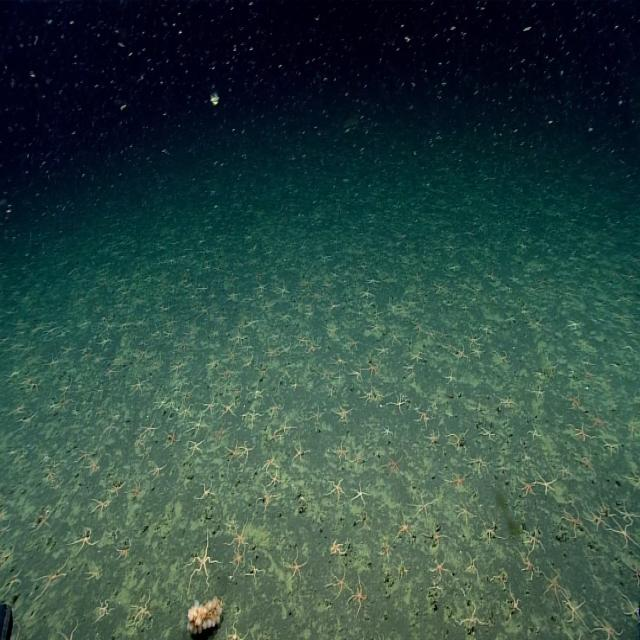brittle-stars: (180, 521, 227, 592), (34, 547, 78, 601), (452, 597, 500, 637), (536, 560, 576, 608), (54, 591, 92, 640), (556, 496, 594, 544), (129, 582, 162, 635), (504, 603, 548, 640), (403, 482, 440, 526), (606, 512, 640, 559), (350, 574, 380, 624), (281, 541, 316, 582), (383, 435, 416, 478), (224, 508, 257, 550), (250, 482, 288, 518), (424, 547, 460, 585), (326, 559, 356, 604), (475, 508, 509, 547), (69, 519, 103, 557), (565, 589, 599, 626), (418, 518, 454, 552), (1, 564, 34, 600), (559, 414, 596, 446), (29, 494, 56, 536), (110, 529, 139, 568), (224, 603, 254, 640), (347, 470, 376, 507), (325, 470, 351, 510), (184, 430, 213, 465), (443, 424, 472, 458), (459, 548, 487, 583), (229, 538, 255, 575), (395, 509, 419, 549), (533, 464, 563, 496), (593, 608, 623, 640), (326, 528, 361, 555), (145, 450, 171, 486), (572, 443, 601, 475), (558, 386, 588, 416), (196, 470, 221, 505), (445, 466, 475, 495), (184, 411, 215, 439), (94, 588, 118, 624), (517, 544, 544, 576), (248, 556, 274, 589), (86, 491, 118, 517), (10, 607, 35, 640), (375, 534, 398, 568), (126, 369, 152, 398), (264, 393, 293, 419), (291, 436, 317, 465), (526, 520, 552, 549), (333, 394, 358, 424), (517, 470, 542, 500), (584, 406, 615, 430), (303, 396, 329, 424), (259, 338, 284, 367), (126, 470, 149, 501), (332, 434, 355, 465), (384, 325, 408, 354), (223, 436, 244, 469), (239, 429, 260, 462), (0, 534, 19, 570), (515, 570, 535, 604), (620, 490, 640, 524), (18, 406, 44, 432), (415, 399, 441, 425), (74, 438, 98, 466), (345, 355, 369, 383), (619, 583, 640, 615), (468, 450, 497, 473), (425, 422, 448, 451), (349, 443, 371, 473), (461, 325, 491, 347), (324, 309, 344, 342), (492, 564, 518, 589), (453, 496, 480, 520), (242, 404, 270, 427), (240, 305, 263, 333), (316, 356, 337, 386), (391, 389, 416, 414), (344, 328, 368, 354), (42, 346, 64, 374), (104, 409, 126, 437), (590, 496, 608, 530), (164, 424, 186, 451), (452, 337, 473, 365), (491, 344, 515, 368), (475, 421, 500, 444), (139, 416, 165, 438), (85, 453, 109, 476), (44, 462, 66, 487), (226, 323, 248, 348), (262, 446, 282, 473), (167, 353, 190, 376), (525, 417, 546, 442), (220, 397, 246, 417), (250, 375, 270, 401), (240, 346, 260, 372), (108, 472, 127, 499), (212, 414, 231, 441), (101, 360, 123, 383), (379, 416, 402, 438), (497, 388, 518, 412), (266, 463, 286, 488), (559, 623, 588, 640), (277, 414, 299, 436), (356, 283, 380, 303), (85, 561, 107, 582), (59, 339, 81, 360), (442, 366, 463, 388), (357, 507, 377, 530), (374, 336, 394, 359), (362, 380, 379, 407), (558, 456, 577, 480), (409, 343, 430, 364), (365, 356, 385, 378), (219, 360, 238, 383), (532, 379, 551, 402), (198, 394, 219, 414), (0, 516, 18, 539), (26, 375, 44, 398), (470, 338, 488, 361), (0, 501, 20, 521), (58, 374, 76, 396), (266, 425, 284, 446), (324, 377, 342, 398), (57, 387, 72, 412), (132, 430, 152, 448), (373, 380, 388, 403), (517, 446, 536, 464), (298, 327, 316, 346), (606, 432, 620, 456), (182, 397, 198, 418), (140, 440, 154, 463), (206, 350, 222, 370), (179, 386, 201, 400), (378, 623, 396, 640), (47, 395, 62, 414), (332, 351, 351, 366), (368, 316, 383, 335), (231, 378, 245, 398), (309, 335, 322, 356), (41, 444, 55, 462), (168, 390, 180, 410)
